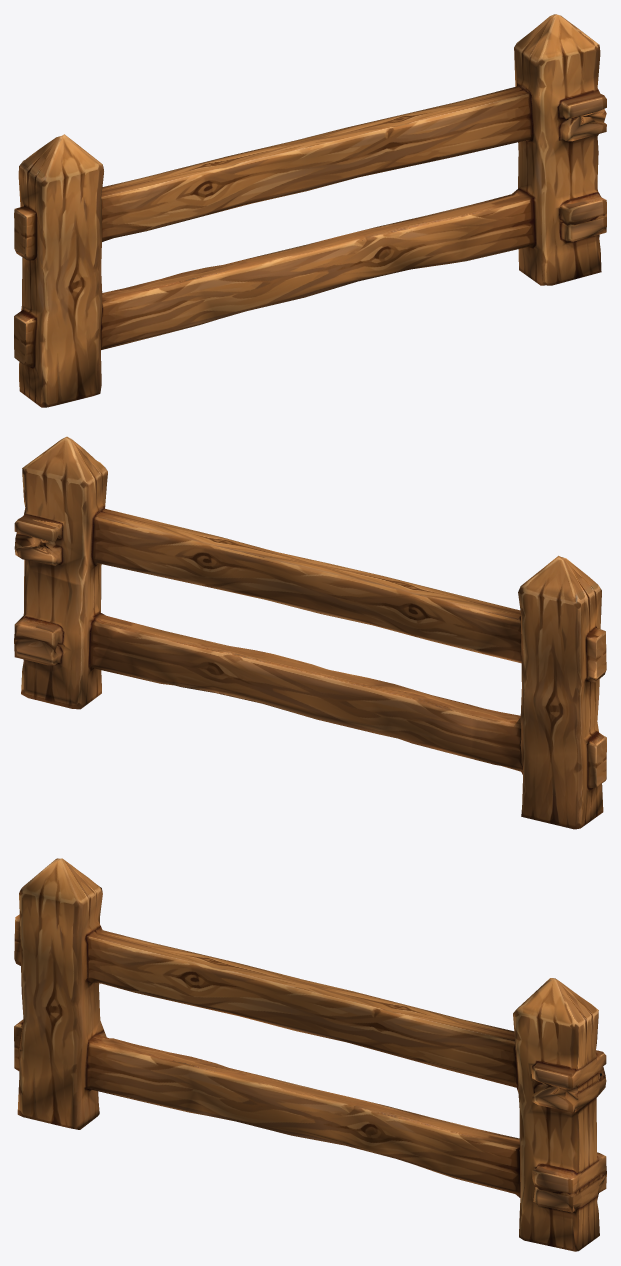
The model's file is cerca_recta.glb.
3 renders of one model, top to bottom at view 1: azimuth 30°, elevation 25°; view 2: azimuth 150°, elevation 25°; view 3: azimuth 330°, elevation 25°, orthographic.
Visible parts, largest first — view 1: cerca_recta; view 2: cerca_recta; view 3: cerca_recta.
Part boxes in pixels (bbox=[...]): cerca_recta: bbox=[14, 14, 606, 407]; cerca_recta: bbox=[14, 436, 606, 829]; cerca_recta: bbox=[14, 858, 606, 1251].
Size of the model in its own units: 3 by 1.3 by 0.32.
1 material, 1 textured.
